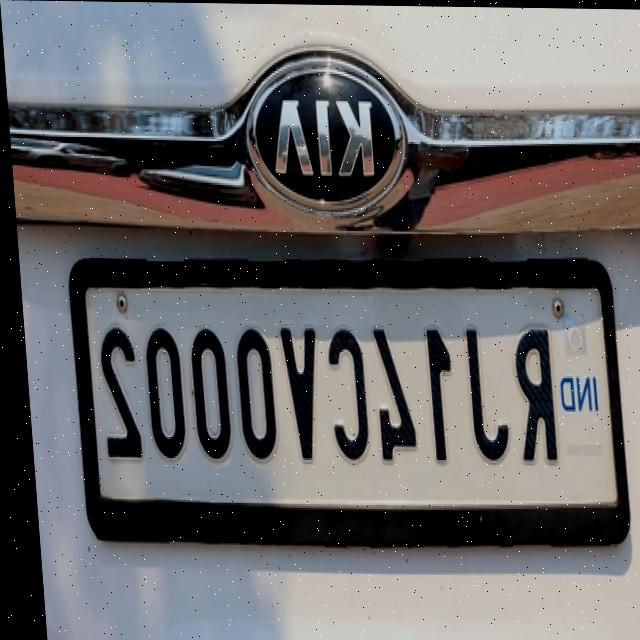plate: (62, 247, 625, 548)
